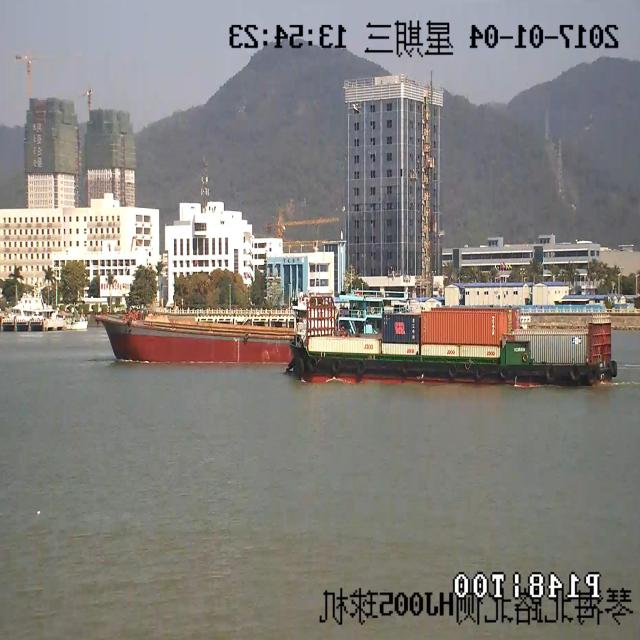cargoship: (285, 288, 608, 390), (97, 292, 279, 356)
